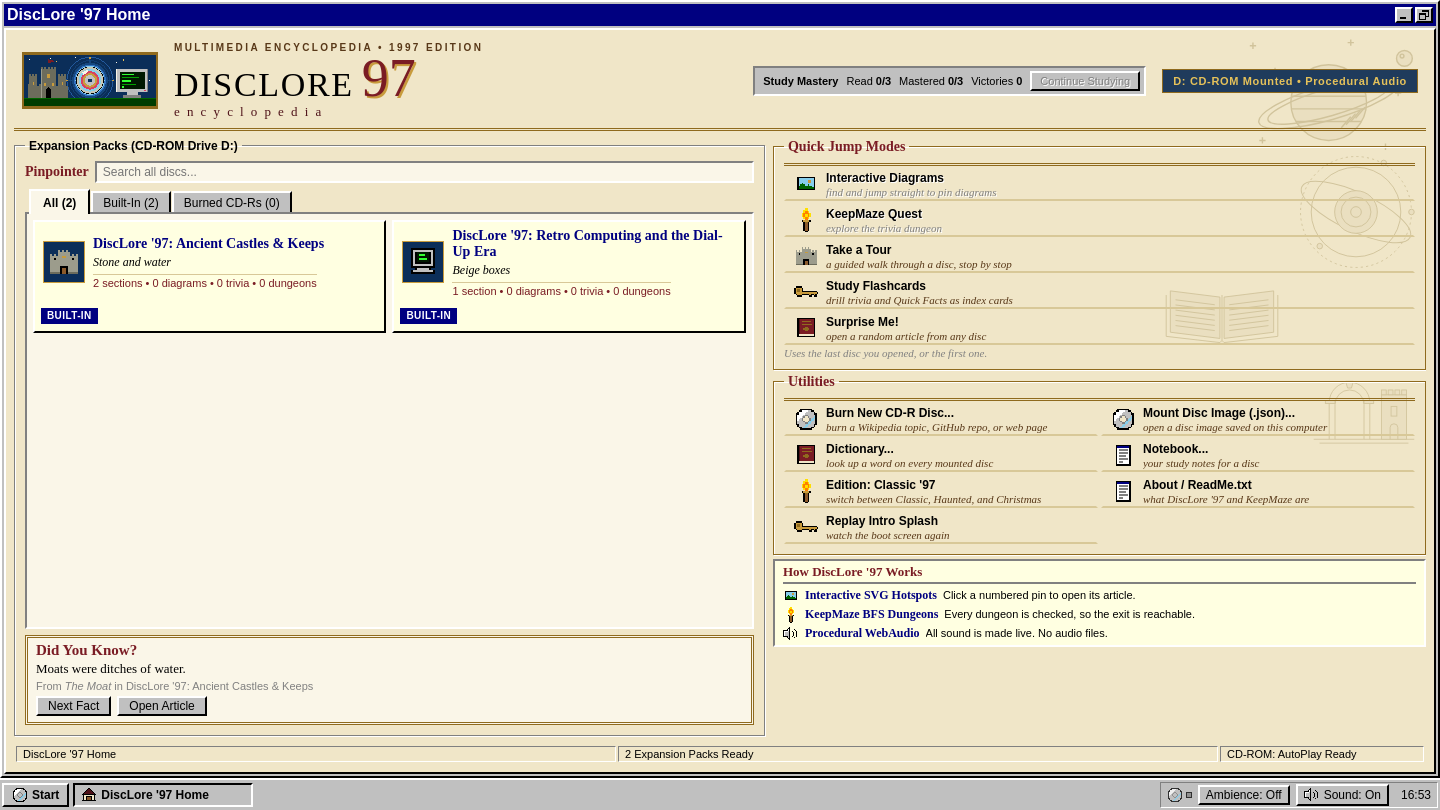
disc switcher › the pin button follows the selected disc
Click the text "DiscLore '97: Ancient Castles & Keeps" at (209, 244), box [93,236,324,253]
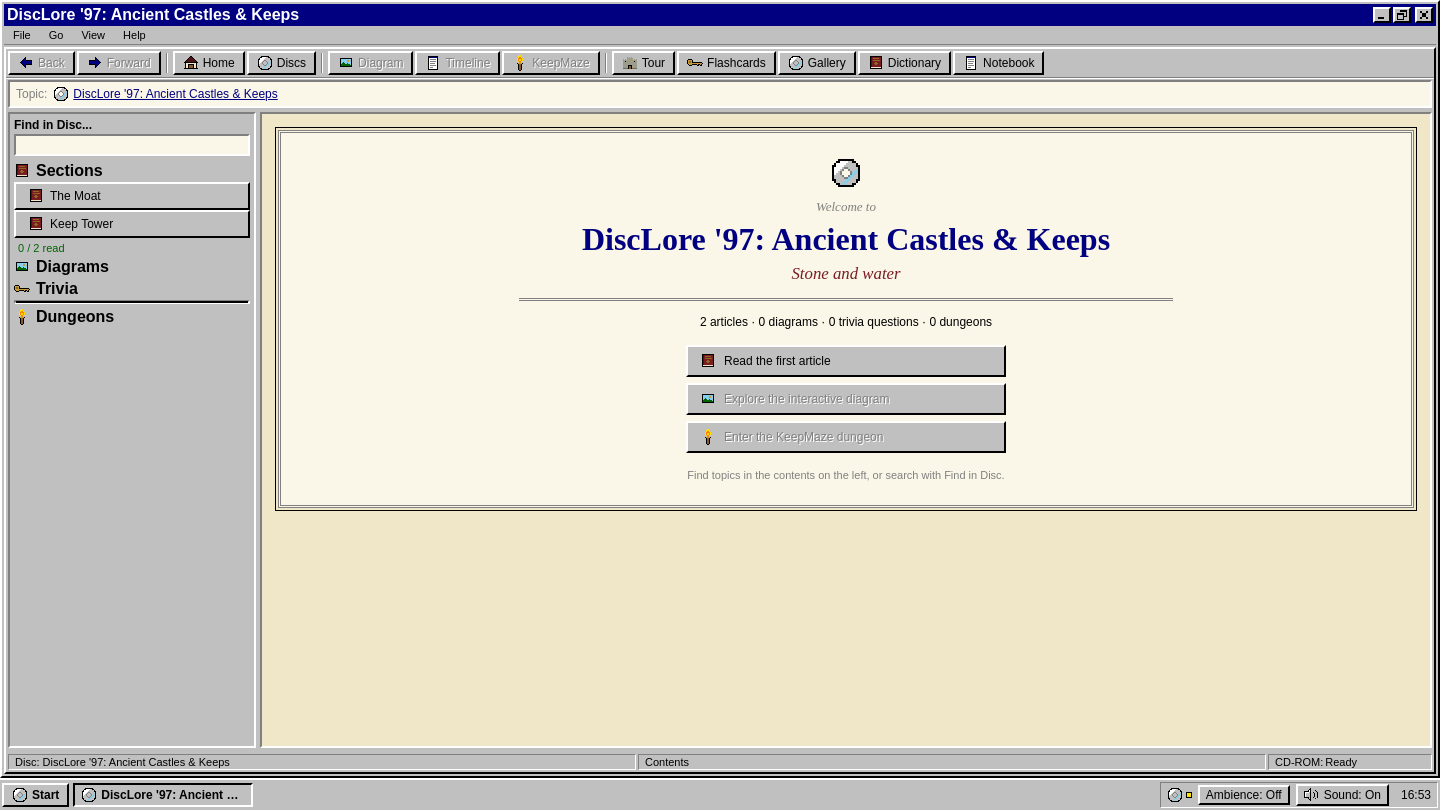
Click the button "Notebook" at (999, 63), box [953,51,1044,75]
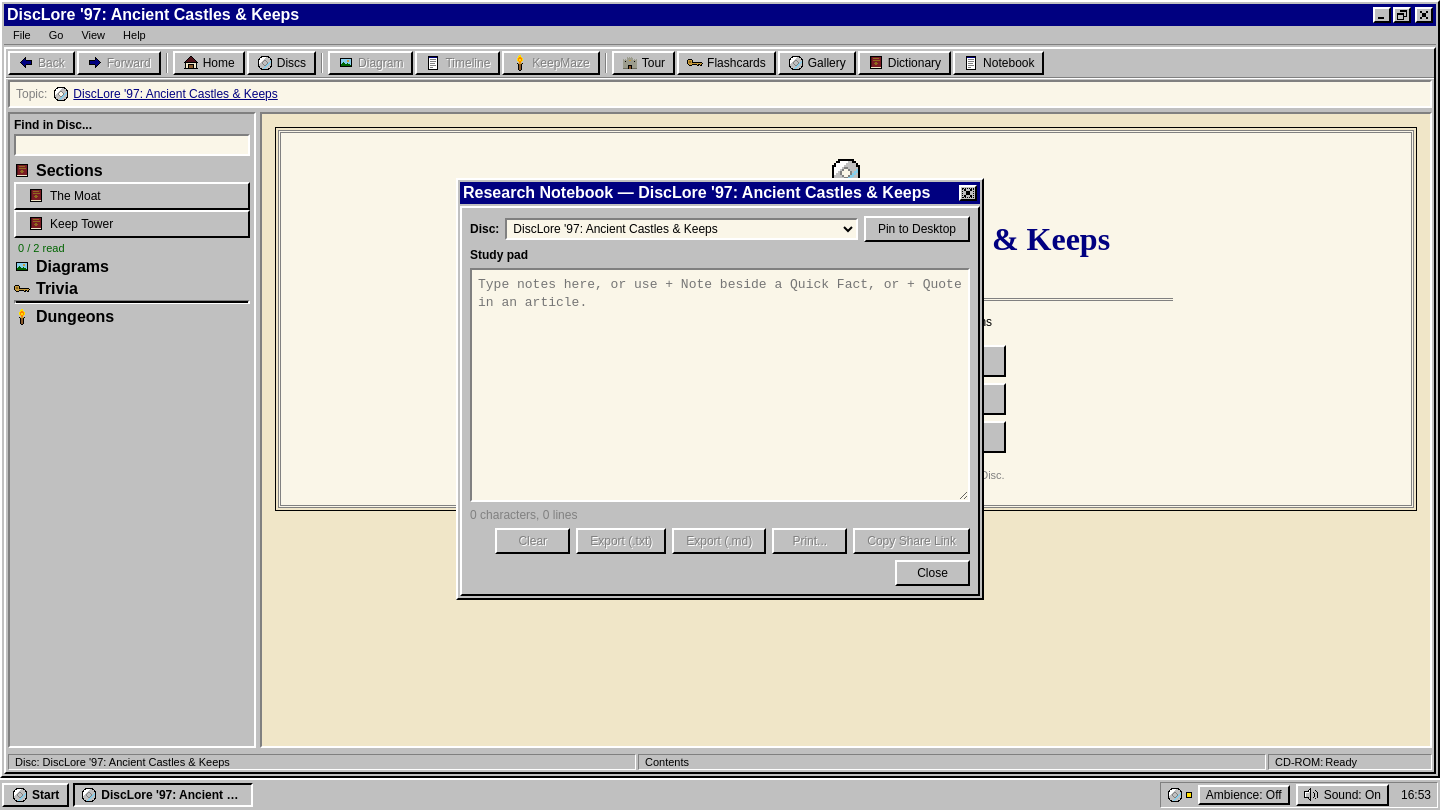
Expected: the button "Pin to Desktop" is shown, [864,216,970,242]
Select "DiscLore '97: Retro Computing and the Dial-Up Era" in the dropdown labelled "Disc:" at (682, 229), box [505,218,858,240]
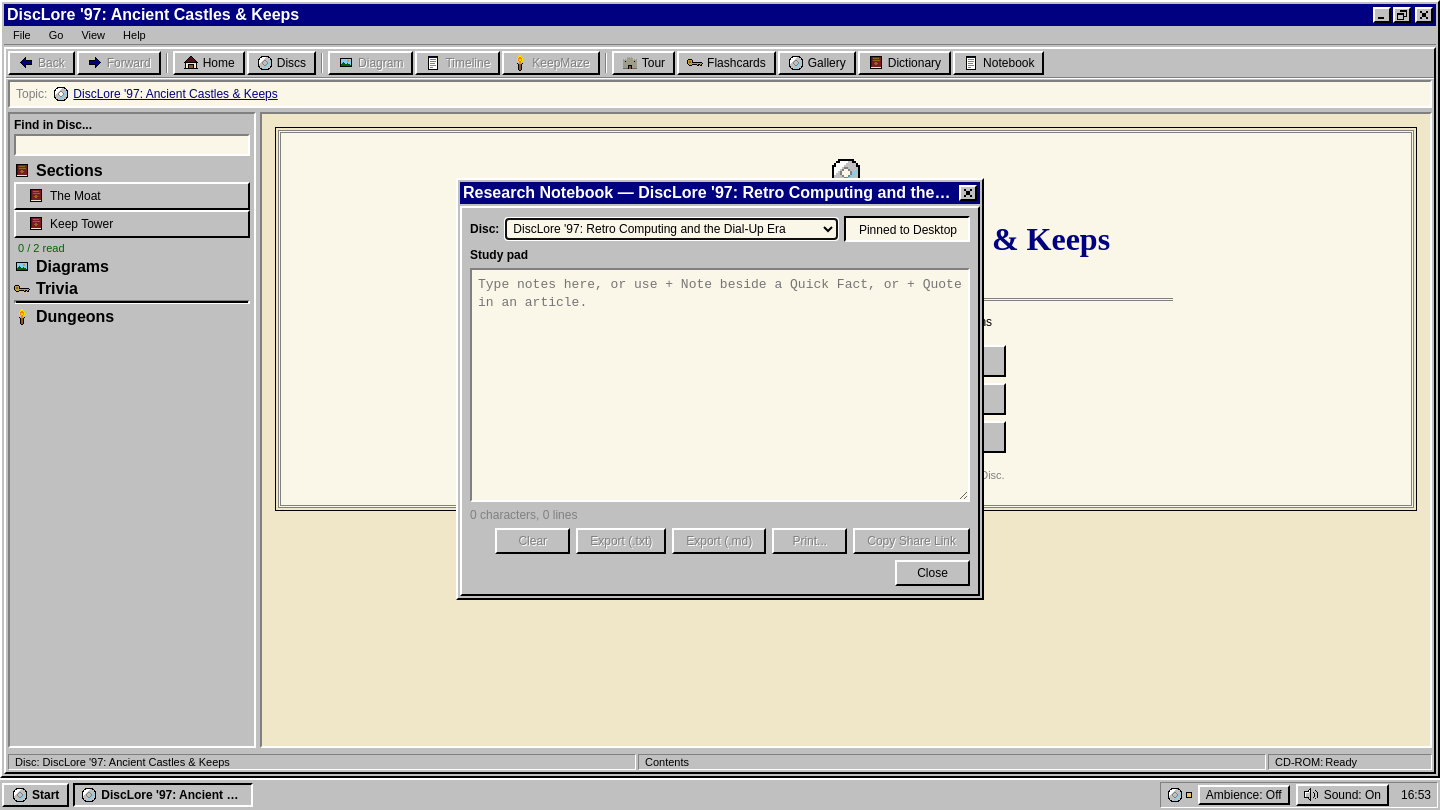
Expected: the button "Pinned to Desktop" is shown, [844,216,970,242]
